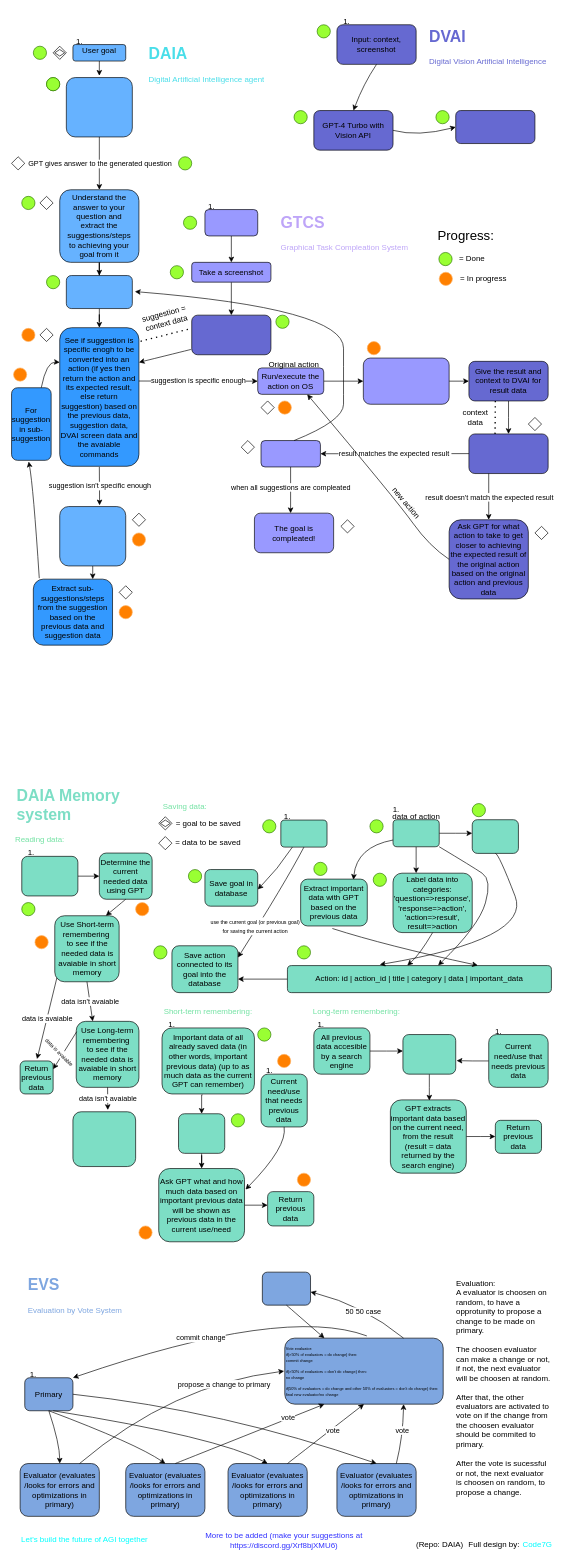
This 569x1566 diagram has some shape labels left out. Each missing label, with the box of its shape:
Create new Evaluator: (262, 1271, 311, 1305)
DATA: (392, 819, 439, 847)
For suggestion in suggestions: (66, 275, 132, 309)
Generate a question about the goal that gets you closer to achieving it: (66, 77, 132, 137)
Generate a question about the suggestion that gets you closer to achieving it: (59, 506, 126, 566)
Generate a title with GPT: (472, 819, 518, 853)
Give the screenshot to DVAI and return the DVAI screen data: (191, 314, 271, 355)
Goal: (280, 819, 327, 847)
GPT reads all previous important data: (178, 1113, 225, 1153)
GPT searches for the now needed data: (402, 1034, 456, 1074)
Make GPT compare the expected result with the gotten result: (468, 433, 548, 474)
Move to next suggestion: (260, 440, 320, 467)
Need/use that needs previous data: (21, 856, 78, 896)
Open OS: (204, 209, 258, 236)
Return all the previous data from Short-term remembering as previous data: (72, 1111, 136, 1167)
Return GPTs response: (455, 110, 535, 144)
Take a screenshot of the result (result = OS after action has been executed): (363, 357, 449, 404)
